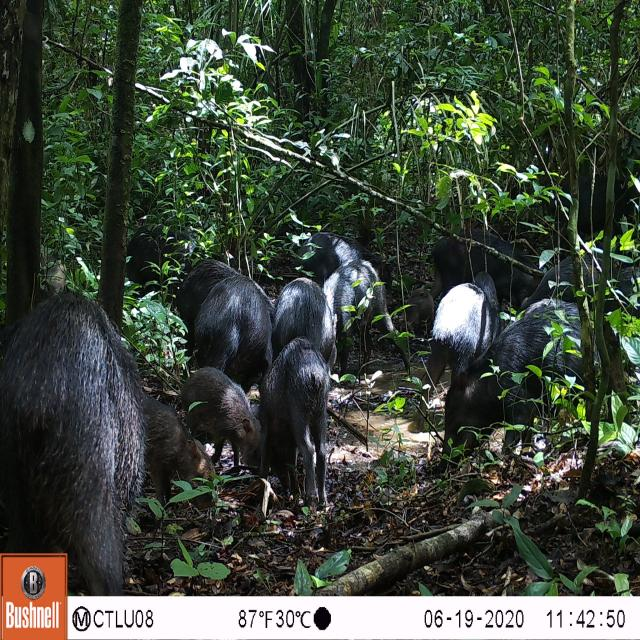White-lipped Peccary: (0, 290, 192, 594), (436, 296, 588, 473), (256, 335, 337, 509), (170, 358, 270, 481), (422, 282, 501, 432), (123, 393, 221, 502), (190, 272, 282, 384), (420, 218, 538, 305), (315, 254, 403, 356), (268, 269, 342, 371), (532, 243, 640, 307), (169, 245, 237, 313), (293, 228, 361, 274)
